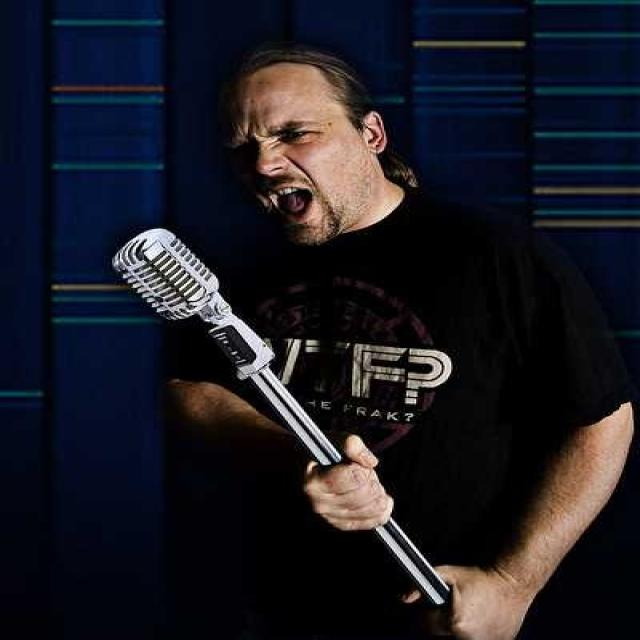microphone: (115, 231, 276, 376)
